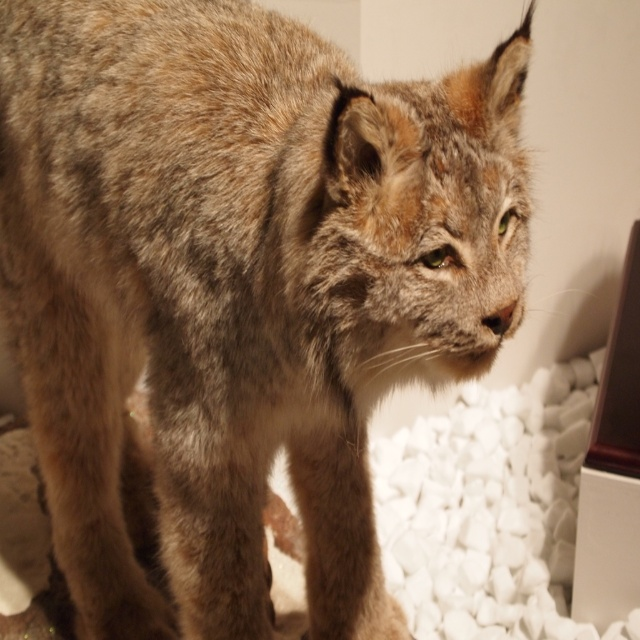Lynx: (1, 0, 544, 639)
